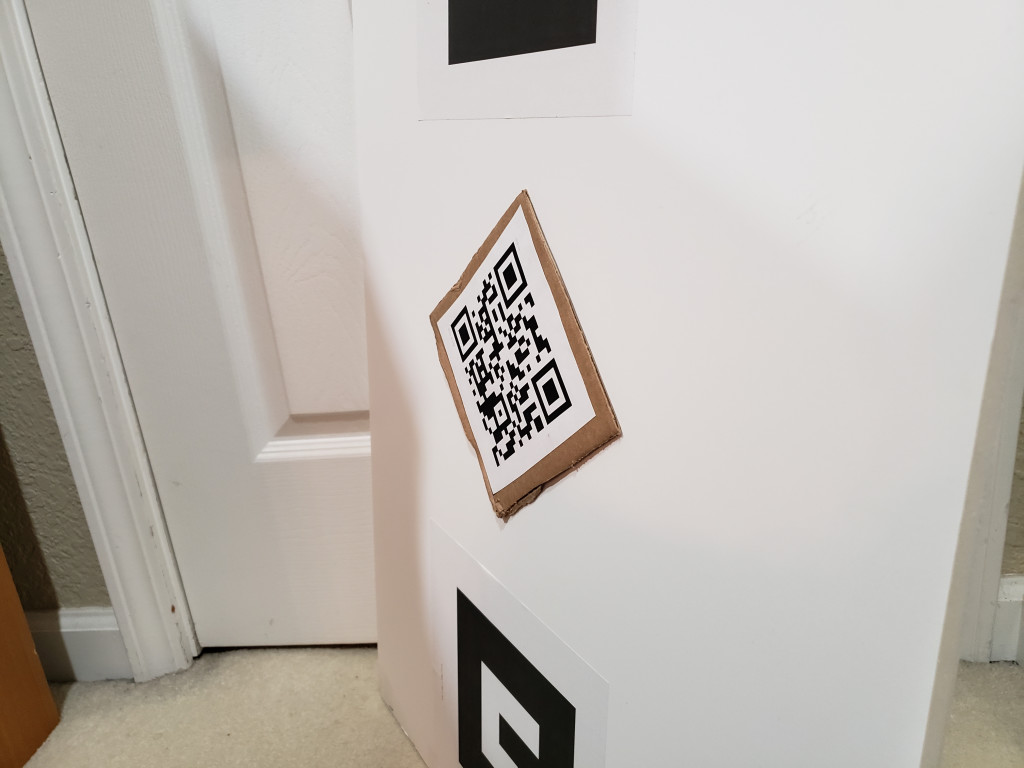QR_CODE: (435, 227, 585, 478)
